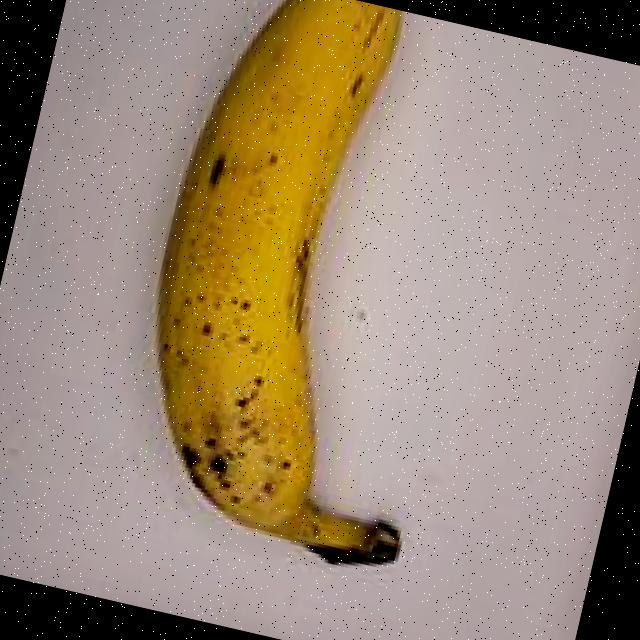Overripe: (46, 0, 541, 603)
